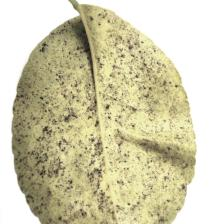black spot: (56, 78, 153, 182)
